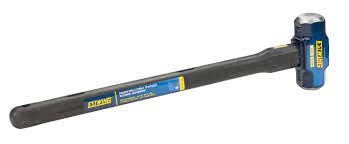hammer: (8, 12, 330, 144)
